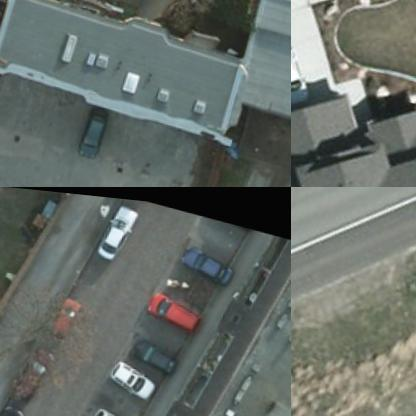car: (144, 280, 206, 324), (291, 31, 325, 109), (91, 194, 134, 252), (178, 234, 237, 276), (108, 350, 162, 390), (126, 328, 182, 366), (14, 346, 50, 395), (48, 288, 86, 334), (83, 98, 115, 150), (89, 398, 146, 415), (205, 210, 252, 223)
